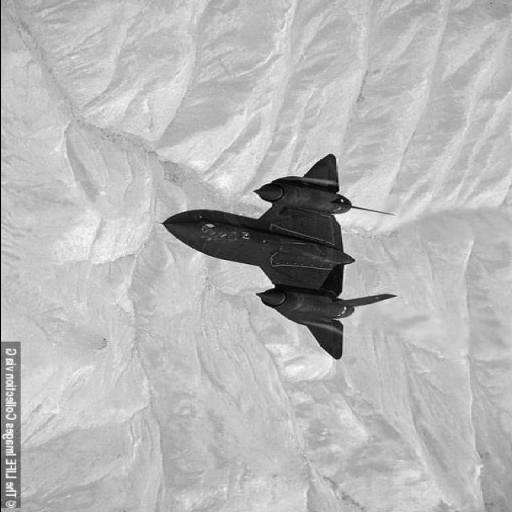uav: (157, 150, 401, 362)
